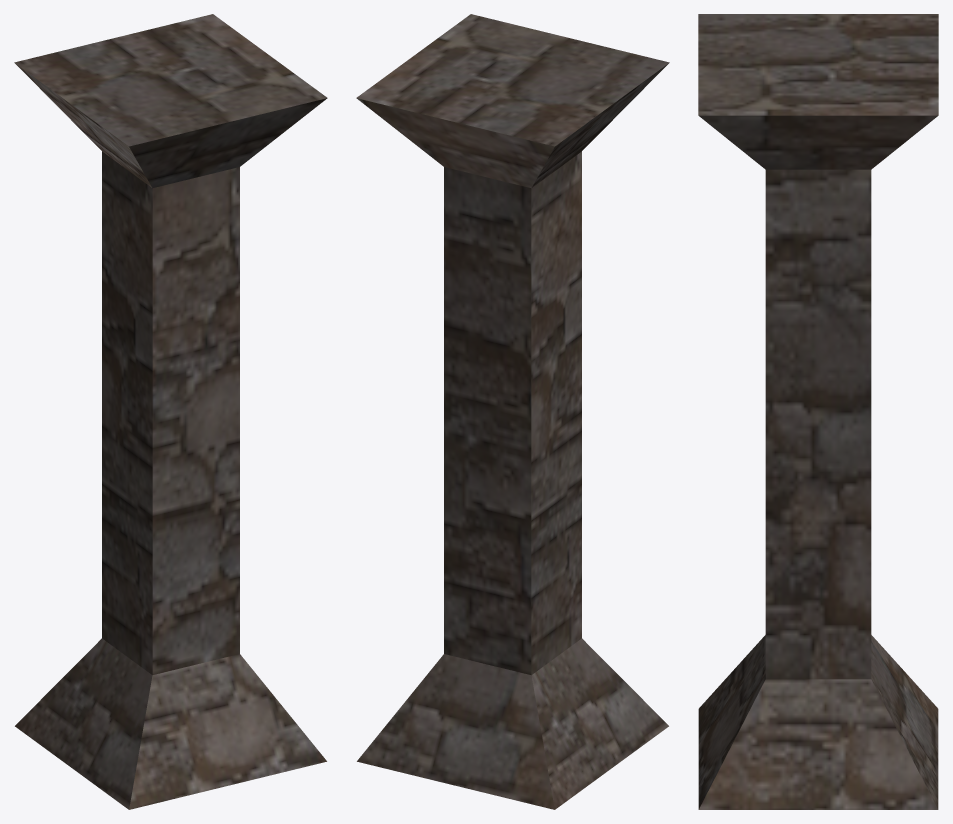
File: Pillar.fbx
3 renders of one model, left to right at view 1: azimuth 30°, elevation 25°; view 2: azimuth 150°, elevation 25°; view 3: azimuth 270°, elevation 25°, orthographic. The views are drawn at different scales.
Parts seen in each view (by area): view 1: Pillar; view 2: Pillar; view 3: Pillar.
Part boxes in pixels (x1=…): Pillar: x1=14, y1=14, x2=327, y2=809; Pillar: x1=356, y1=14, x2=669, y2=809; Pillar: x1=698, y1=14, x2=938, y2=809.
Bounding box in the file's own units: 364 × 1160 × 364.
